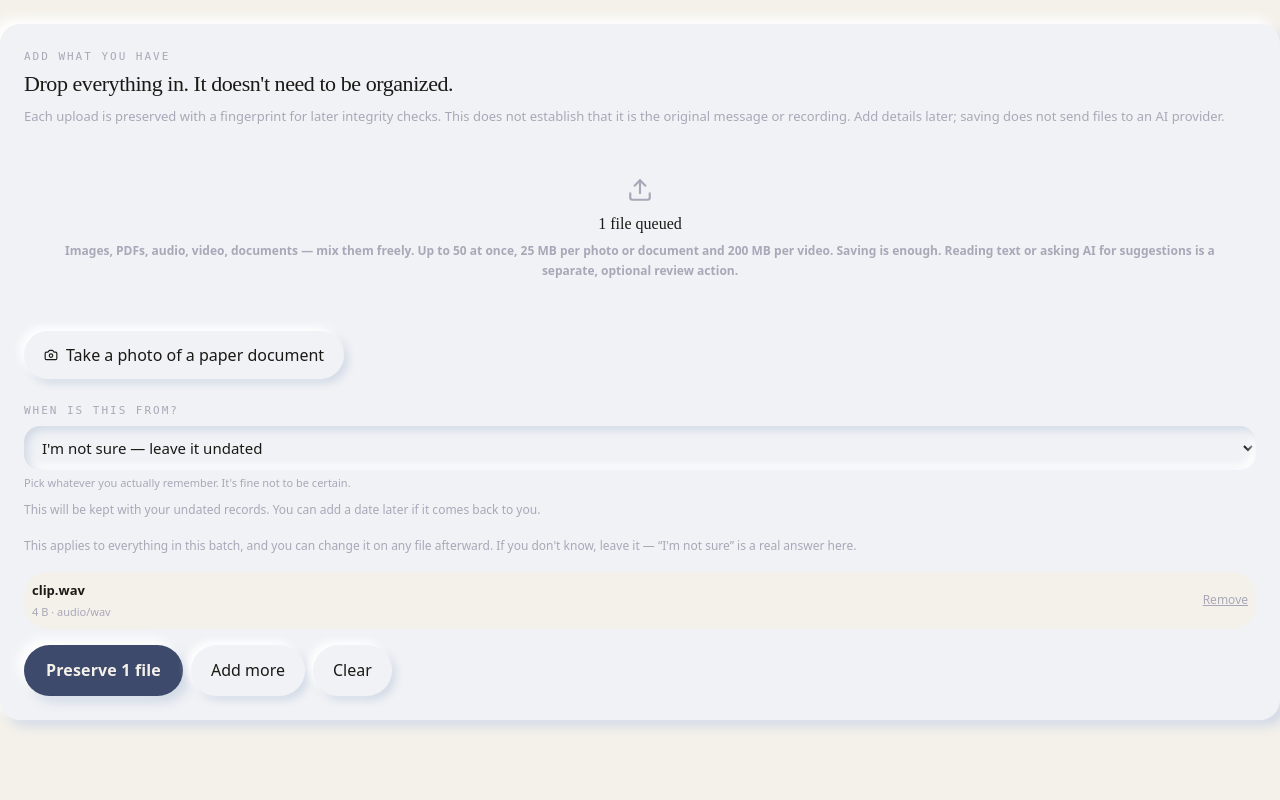
Test: preservation is separate from outside processing › keeps a file retryable when the receipt omits it
Earlier steps of the test are not shown.
Later steps or results of the test are not shown.
Click the button "Preserve 1 file" at (104, 670), box 24,645 -> 183,696
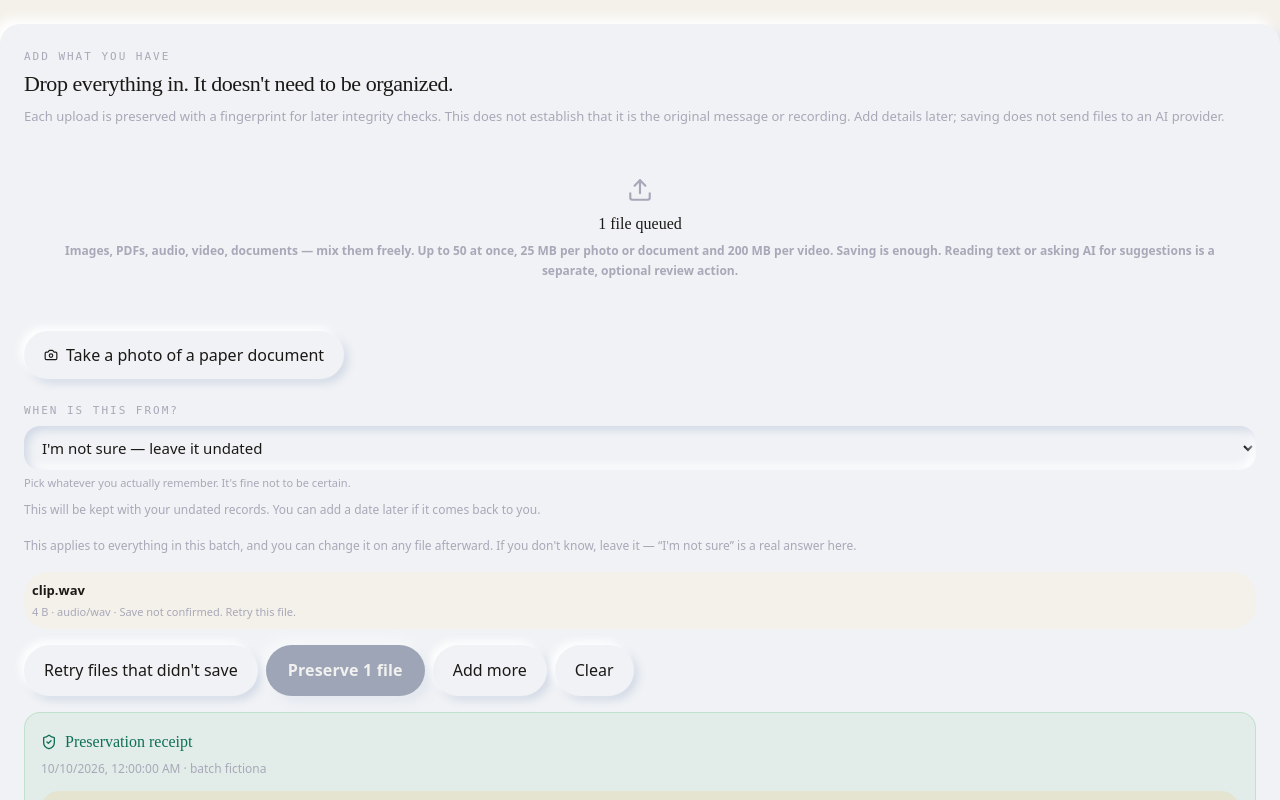
Result: the text "Save not confirmed" is shown at 111,604 -> 296,619
Result: the button "Retry files that didn't save" is shown
Result: the button "Retry files that didn't save" is enabled
Click the button "Retry files that didn't save" at (141, 670), box 24,645 -> 258,696
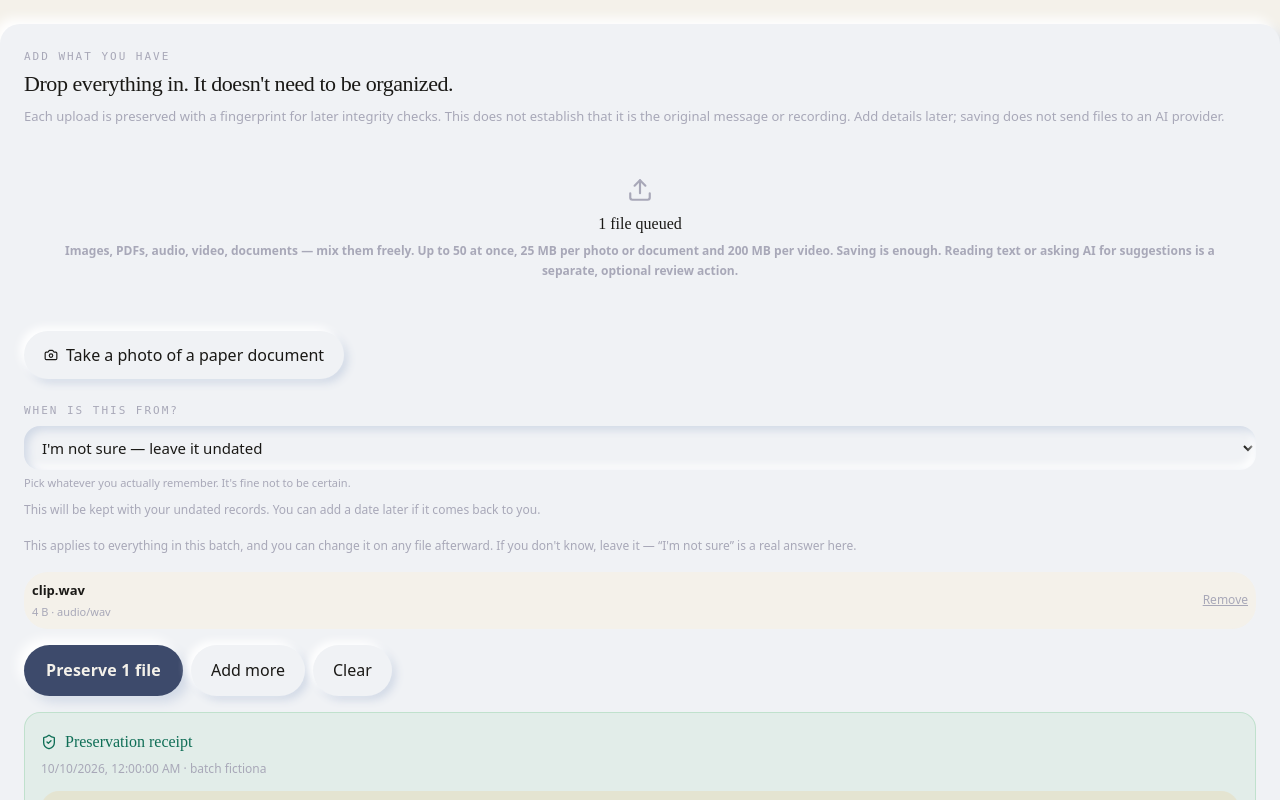
Result: the button "Preserve 1 file" is enabled at 24,645 -> 183,696
